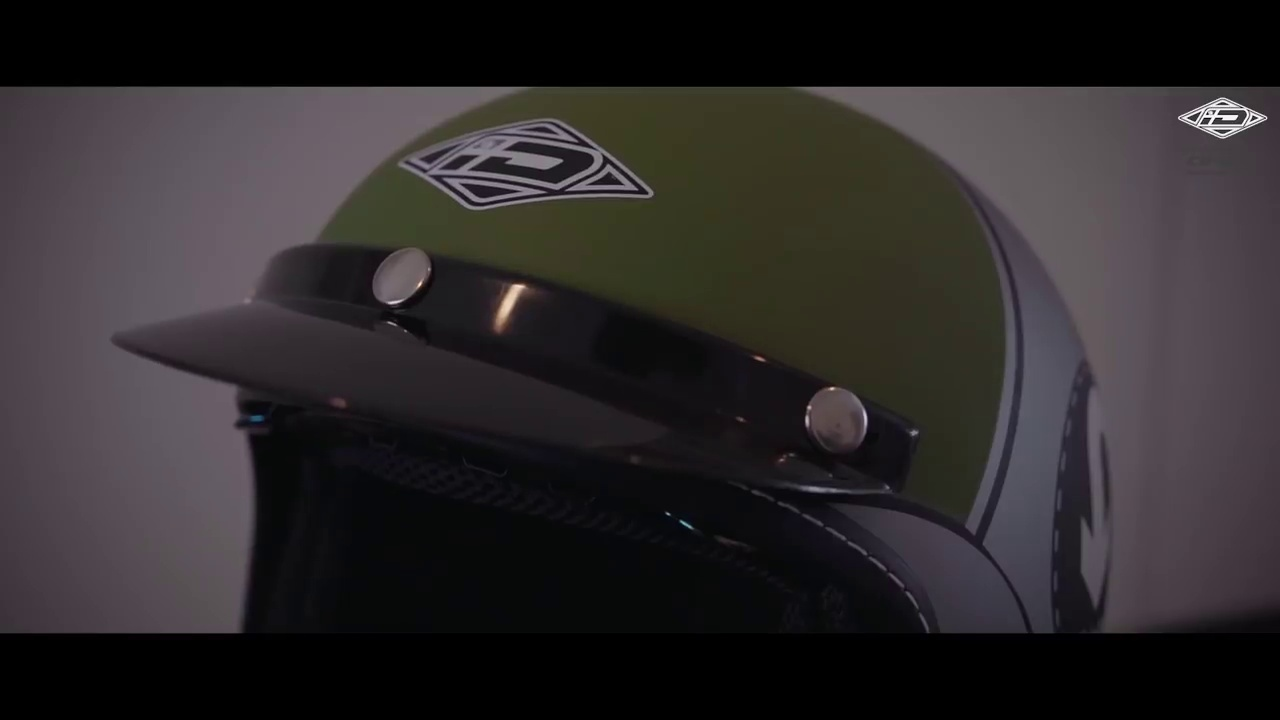helmet: (167, 85, 1122, 630)
